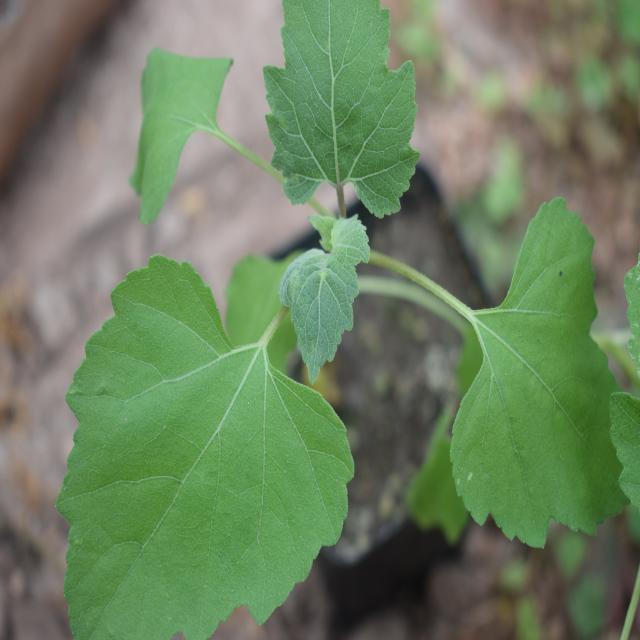cocklebur: (78, 22, 618, 604)
